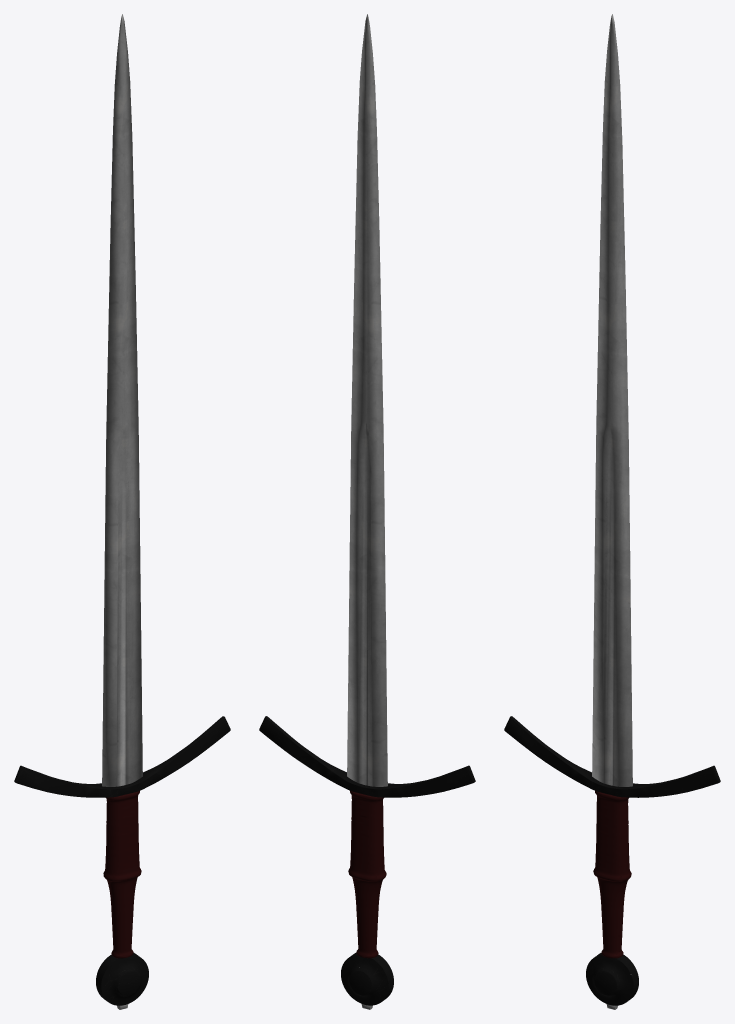
Rendered from longsword.glb.
3 views of the same model, side by side, from view 1: azimuth 30°, elevation 25°; view 2: azimuth 150°, elevation 25°; view 3: azimuth 330°, elevation 25° (orthographic).
Visible parts, largest first — view 1: Object_2; view 2: Object_2; view 3: Object_2.
Part boxes in pixels (box(x1,y1,x2,y2)): Object_2: box(14, 14, 230, 1009); Object_2: box(259, 14, 475, 1009); Object_2: box(504, 14, 720, 1009).
Size of the model in its own units: 0.261 by 1.15 by 0.0292.
Materials: 4 (3 with a texture image).
